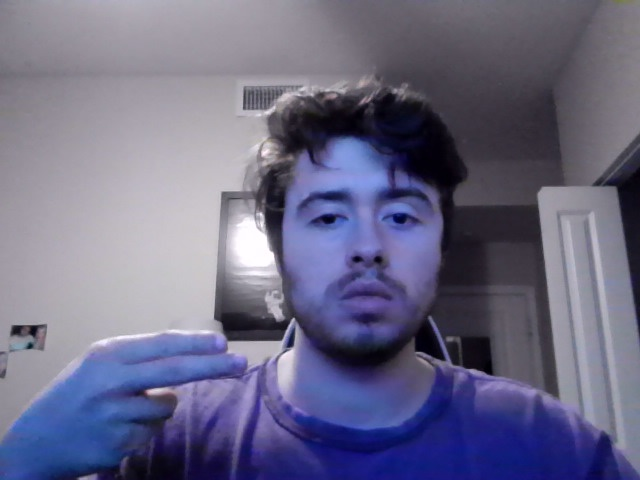h: (5, 328, 250, 480)
